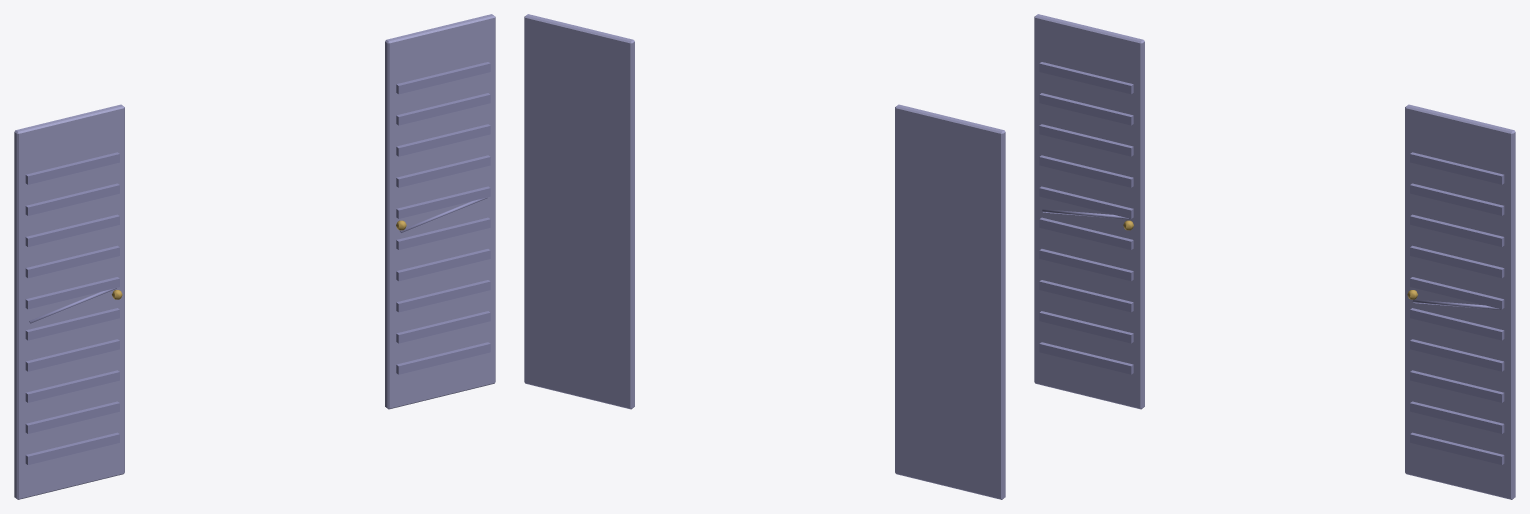
Rendered from facade_shutters.glb.
The picture shows the model from 3 angles, left to right: view 1: azimuth 30°, elevation 25°; view 2: azimuth 150°, elevation 25°; view 3: azimuth 330°, elevation 25°; orthographic projection.
Visible parts, largest first — view 1: facade_shutters; view 2: facade_shutters; view 3: facade_shutters.
Part boxes in pixels (bbox=[...]): facade_shutters: bbox=[14, 14, 495, 499]; facade_shutters: bbox=[524, 14, 1005, 499]; facade_shutters: bbox=[1034, 14, 1515, 499].
Size of what is drawn, in the model's own units: 3.54 by 2.6 by 0.115.
